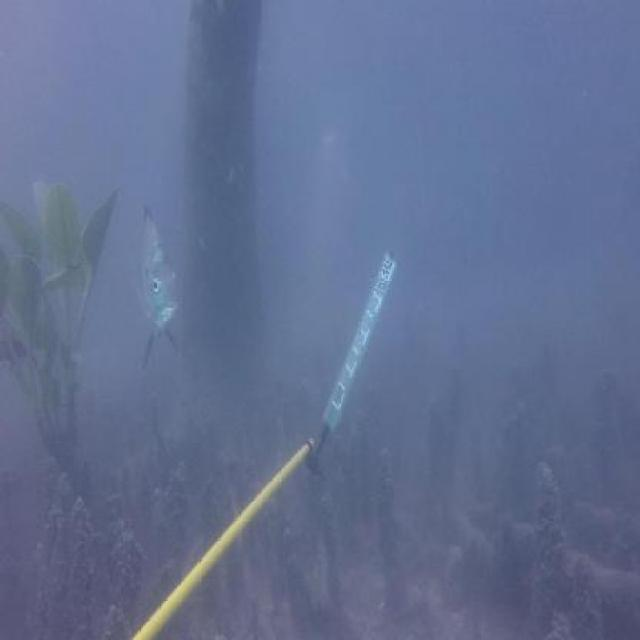acanthopagrus_palmaris: (132, 204, 180, 376)
